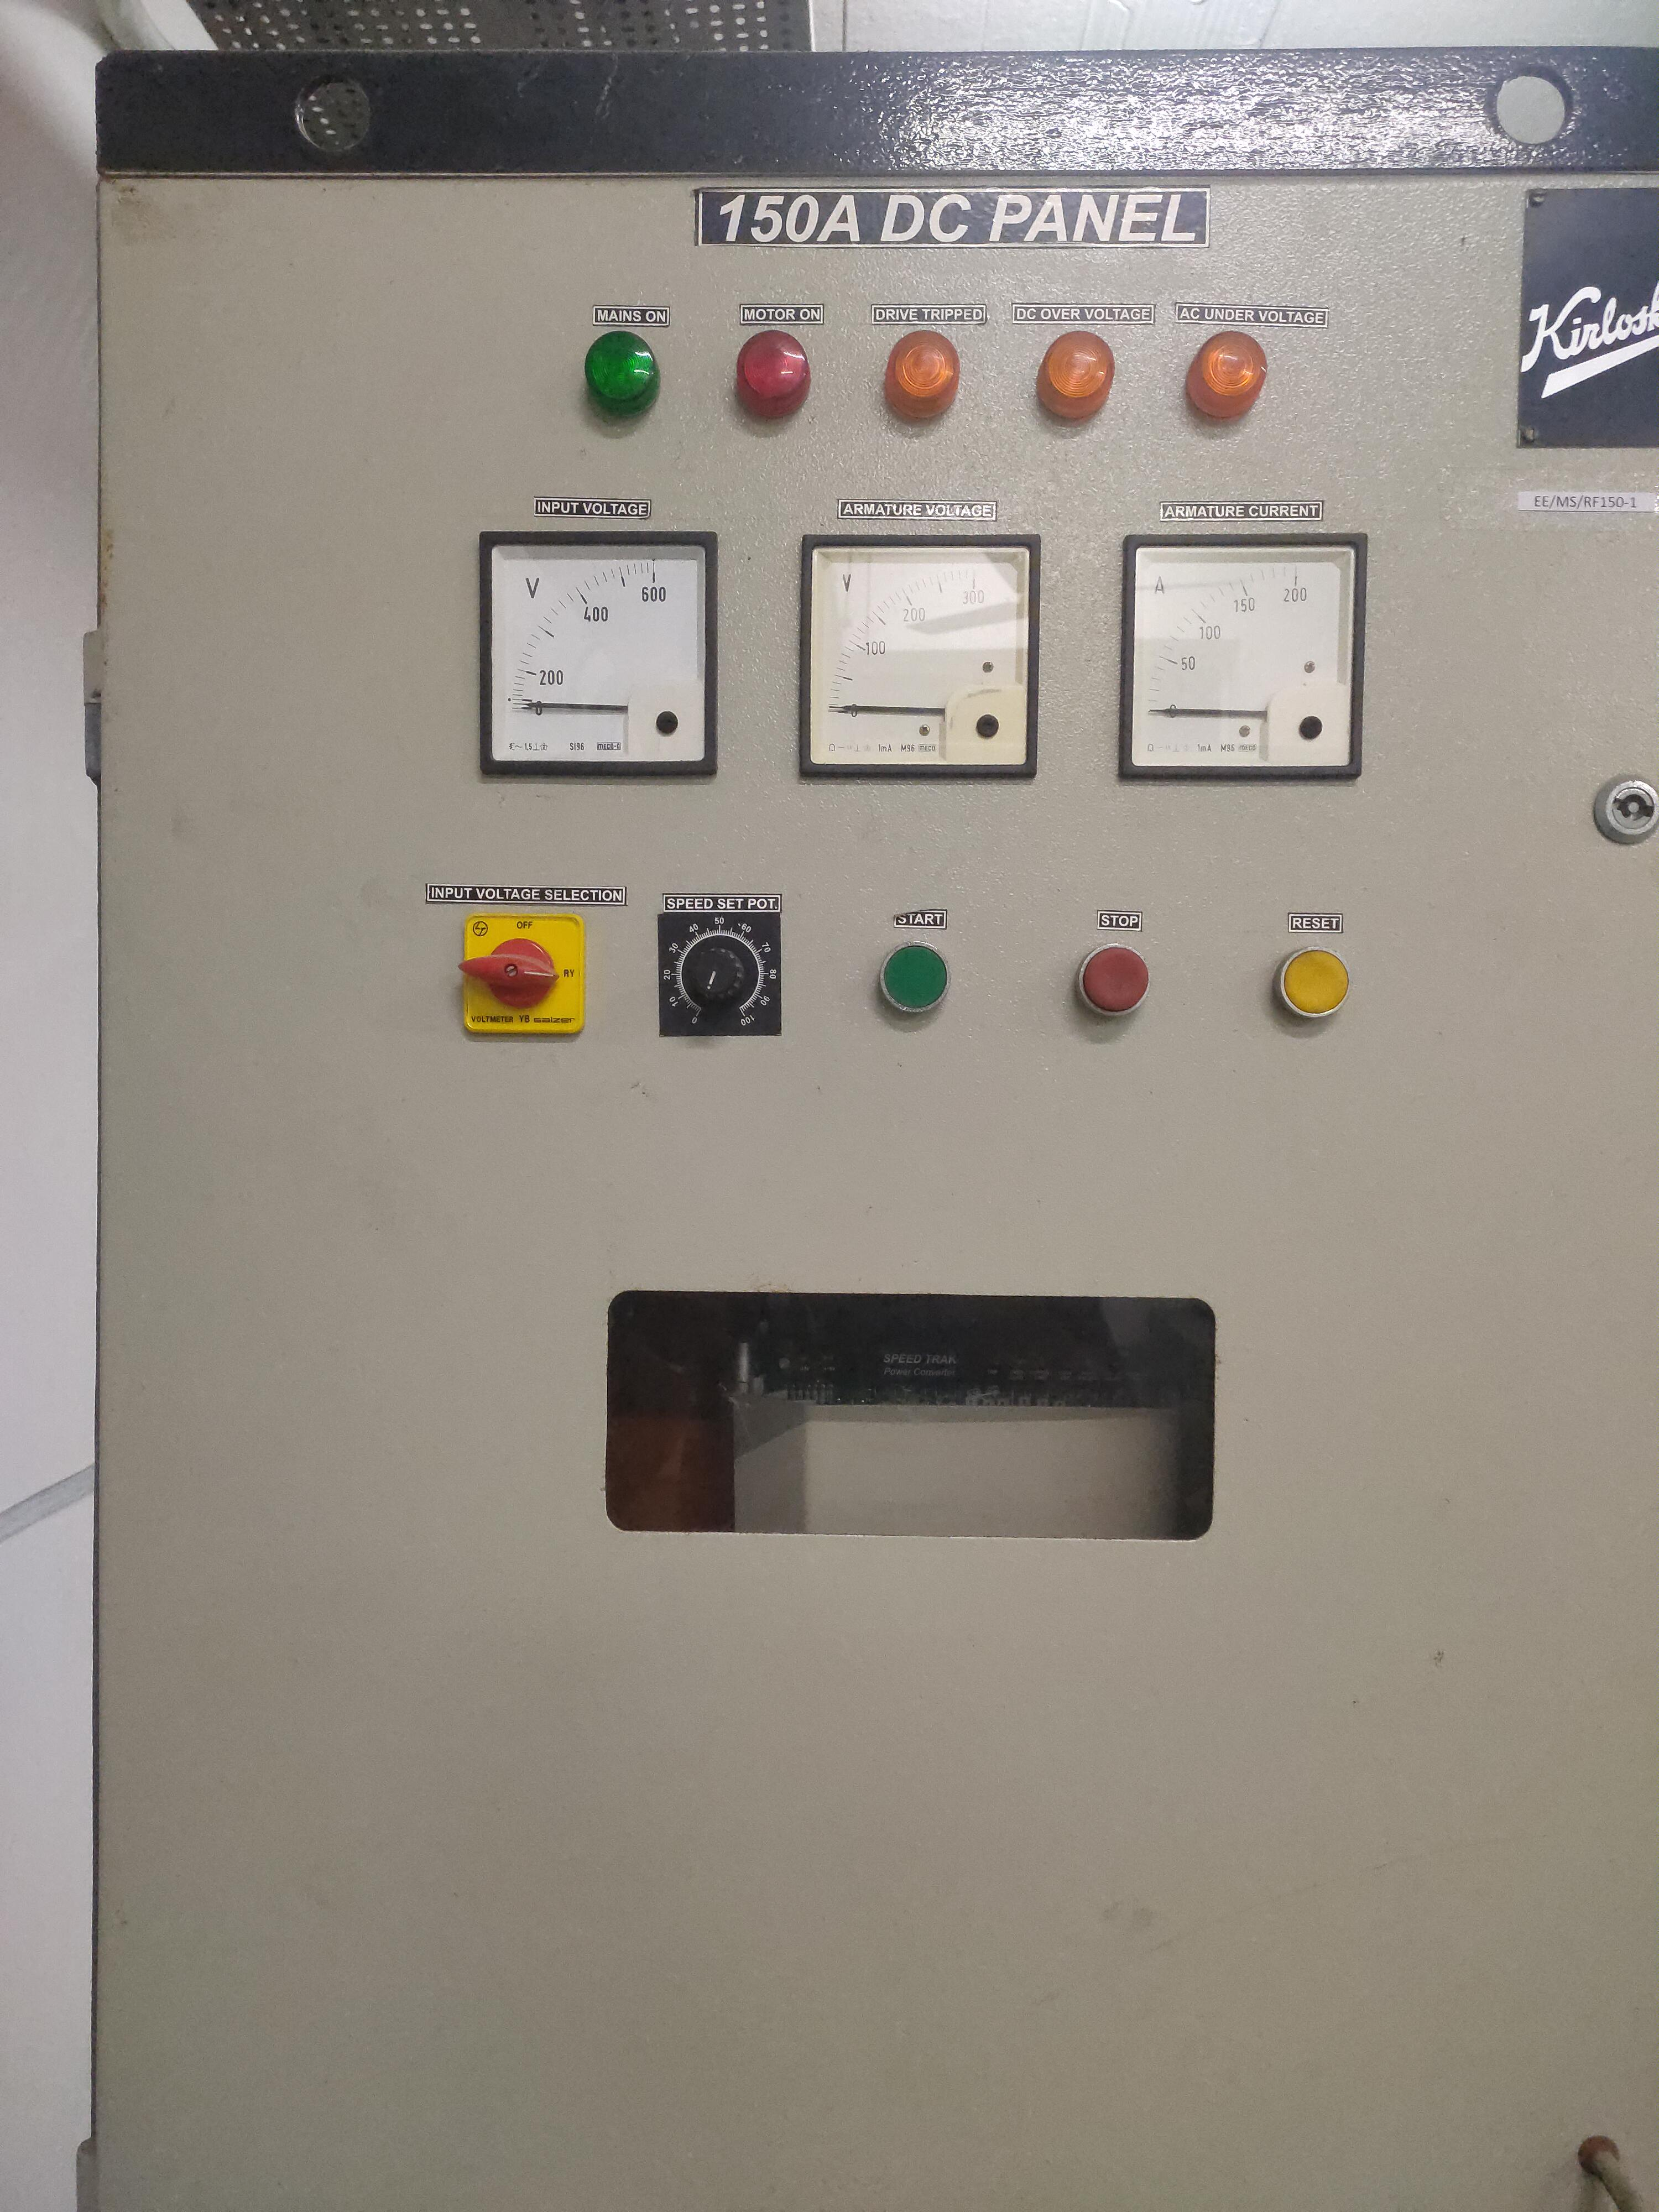Light Indications: (530, 277, 1297, 489)
